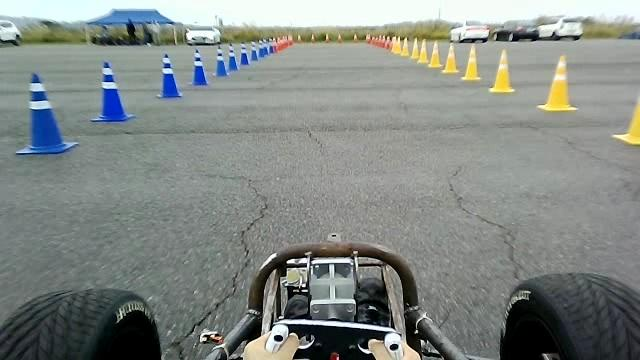blue cone: (15, 72, 78, 154), (89, 60, 135, 122), (156, 52, 182, 98), (189, 47, 207, 85), (212, 46, 228, 77), (227, 42, 238, 71), (239, 41, 250, 65), (249, 41, 258, 61)
yellow cone: (536, 54, 578, 111), (488, 48, 514, 93), (461, 43, 481, 80), (441, 42, 459, 73), (428, 39, 442, 68), (416, 38, 429, 63), (410, 36, 419, 59), (400, 36, 409, 56)
